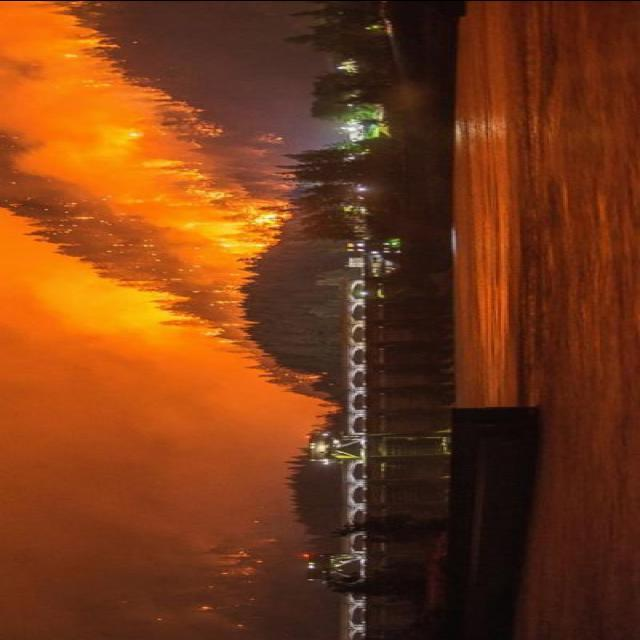Fire: (16, 0, 288, 258)
